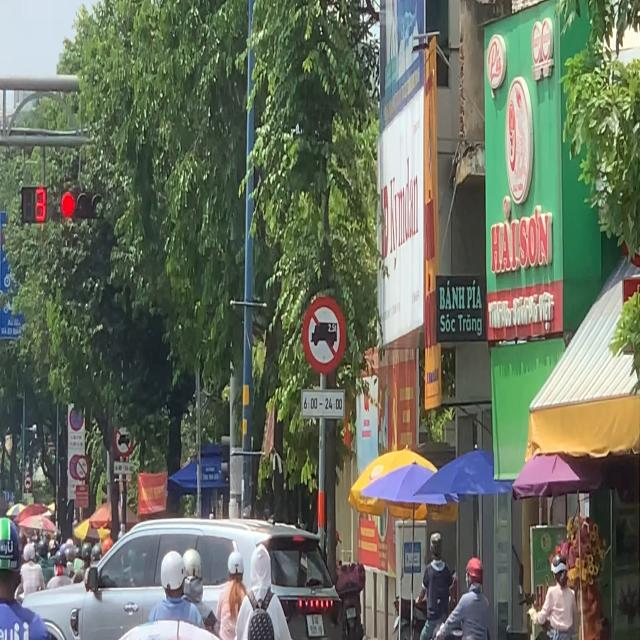Cam con lai: (302, 295, 346, 375), (113, 421, 134, 457)
